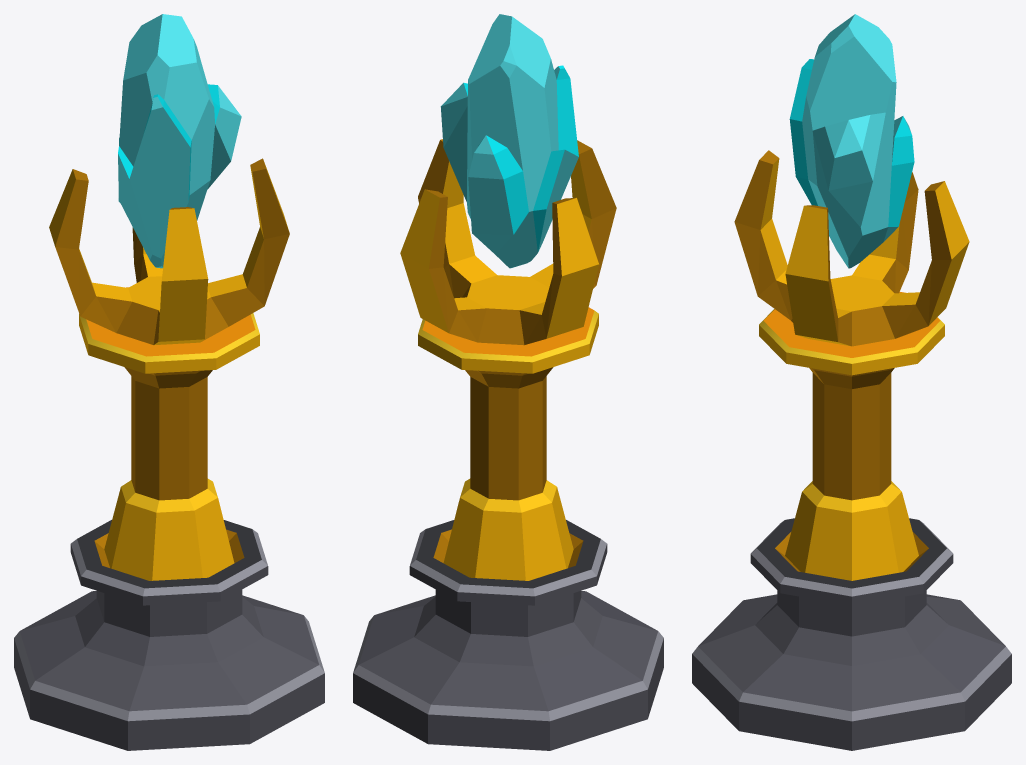
Rendered from CrystalTotem_01.glb.
3 renders of one model, left to right at view 1: azimuth 30°, elevation 25°; view 2: azimuth 150°, elevation 25°; view 3: azimuth 270°, elevation 25°, orthographic.
Visible parts, largest first — view 1: CrystalTotem_01; view 2: CrystalTotem_01; view 3: CrystalTotem_01.
Boxes of the visible parts, left/top/right/bottom form: CrystalTotem_01: left=14, top=14, right=324, bottom=750; CrystalTotem_01: left=353, top=14, right=663, bottom=750; CrystalTotem_01: left=692, top=14, right=1011, bottom=750.
Size of what is drawn, in the model's own units: 1.23 by 2.84 by 1.23.
Materials: 2 (2 with a texture image).
